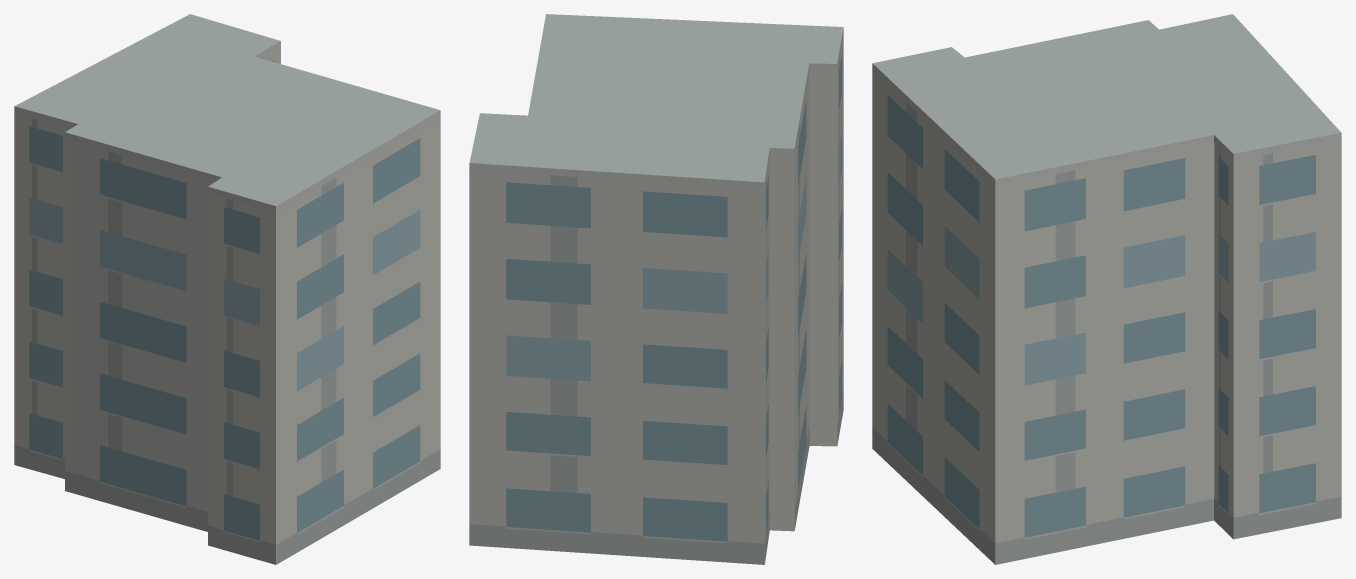
The model's file is survey-upis-32465479.glb.
3 views of the same model, side by side, from view 1: azimuth 30°, elevation 25°; view 2: azimuth 150°, elevation 25°; view 3: azimuth 270°, elevation 25° (orthographic). The views are drawn at different scales.
Visible parts, largest first — view 1: survey-upis-32465479.tmp; view 2: survey-upis-32465479.tmp; view 3: survey-upis-32465479.tmp.
Part boxes in pixels (bbox=[...]): survey-upis-32465479.tmp: bbox=[14, 14, 440, 564]; survey-upis-32465479.tmp: bbox=[469, 14, 843, 564]; survey-upis-32465479.tmp: bbox=[872, 14, 1341, 564].
Size of the model in its own units: 12.21 by 13.25 by 14.63.
